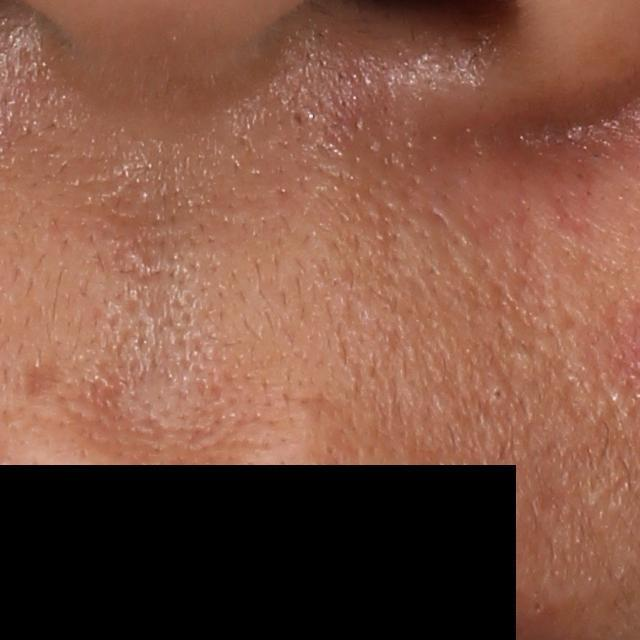atrophic_scar: (19, 360, 68, 402)
comedo: (286, 101, 313, 134), (488, 382, 510, 408), (530, 597, 546, 619)
